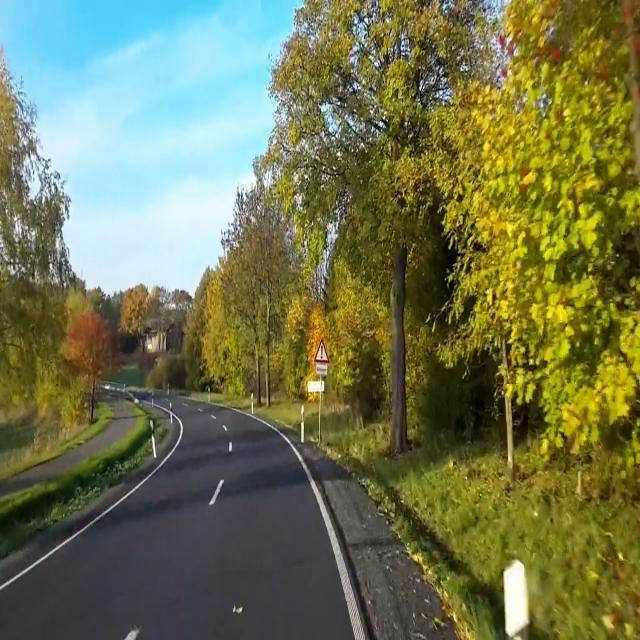lane: (0, 418, 184, 591), (261, 420, 366, 639), (209, 479, 223, 506), (122, 626, 141, 639)
road: (0, 401, 353, 639)
